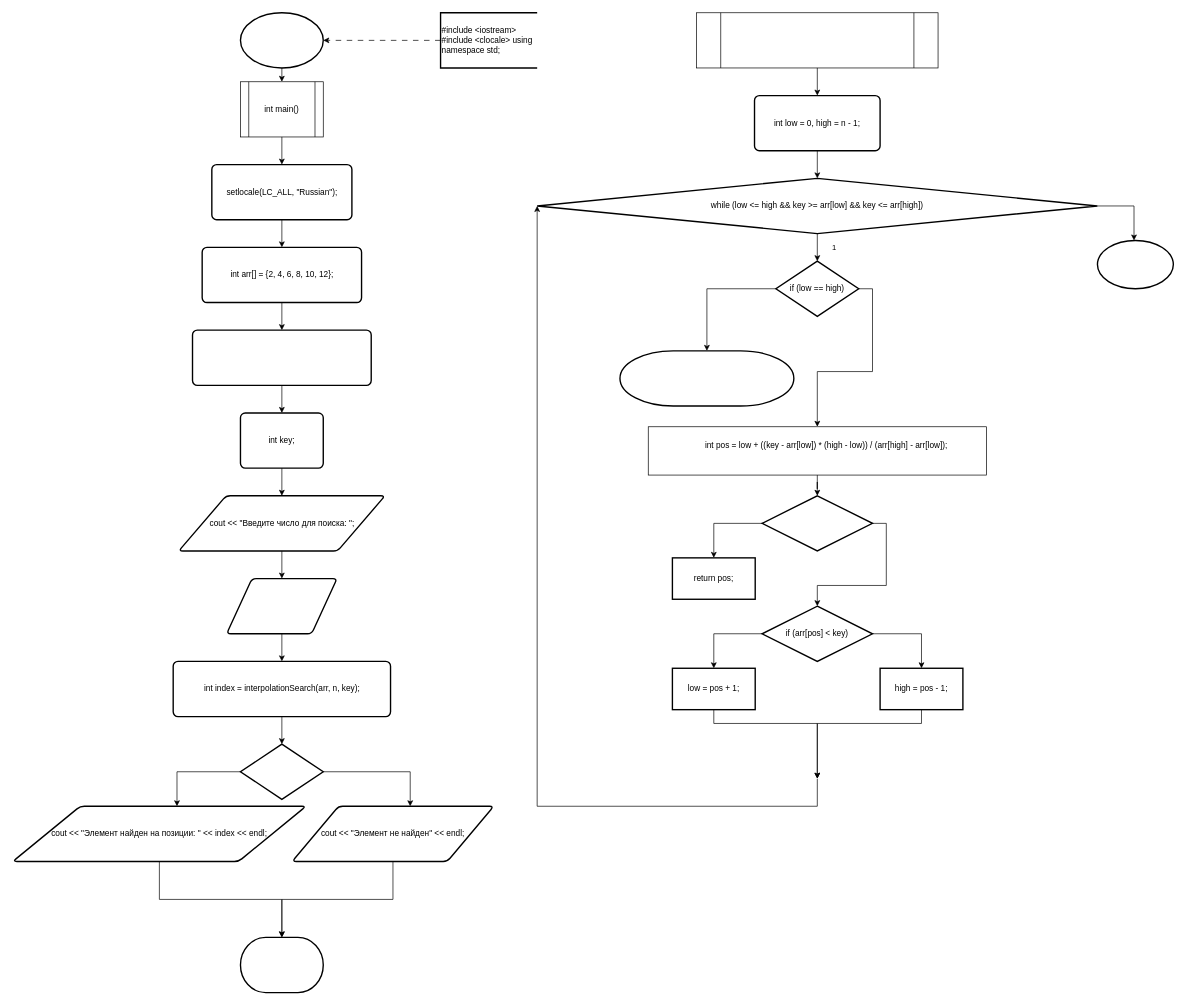
Image size: 1185x1005. Some labels were removed from this diagram. The shapes that lost their labels are listed below. From the top down, each one's centre as x and y in pixels, then its label:
the point at 281,40: Начало
the point at 817,40: int interpolationSearch(int arr[], int n, int key)
the point at 1135,264: return -1;
the point at 281,357: int n = sizeof(arr) / sizeof(arr[0]);
the point at 706,378: return (arr[low] == key) ? low : -1;
the point at 817,523: if (arr[pos] == key)
the point at 281,606: cin >> key;
the point at 281,771: if (index != -1)
the point at 281,964: return 0;
